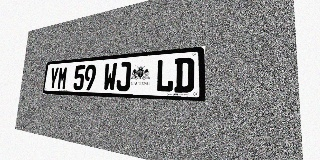5: (73, 65, 85, 90)
9: (83, 64, 97, 91)
D: (174, 57, 194, 93)
J: (116, 62, 131, 91)
L: (155, 58, 174, 92)
M: (57, 66, 68, 90)
W: (103, 63, 117, 91)
Y: (48, 67, 59, 90)
